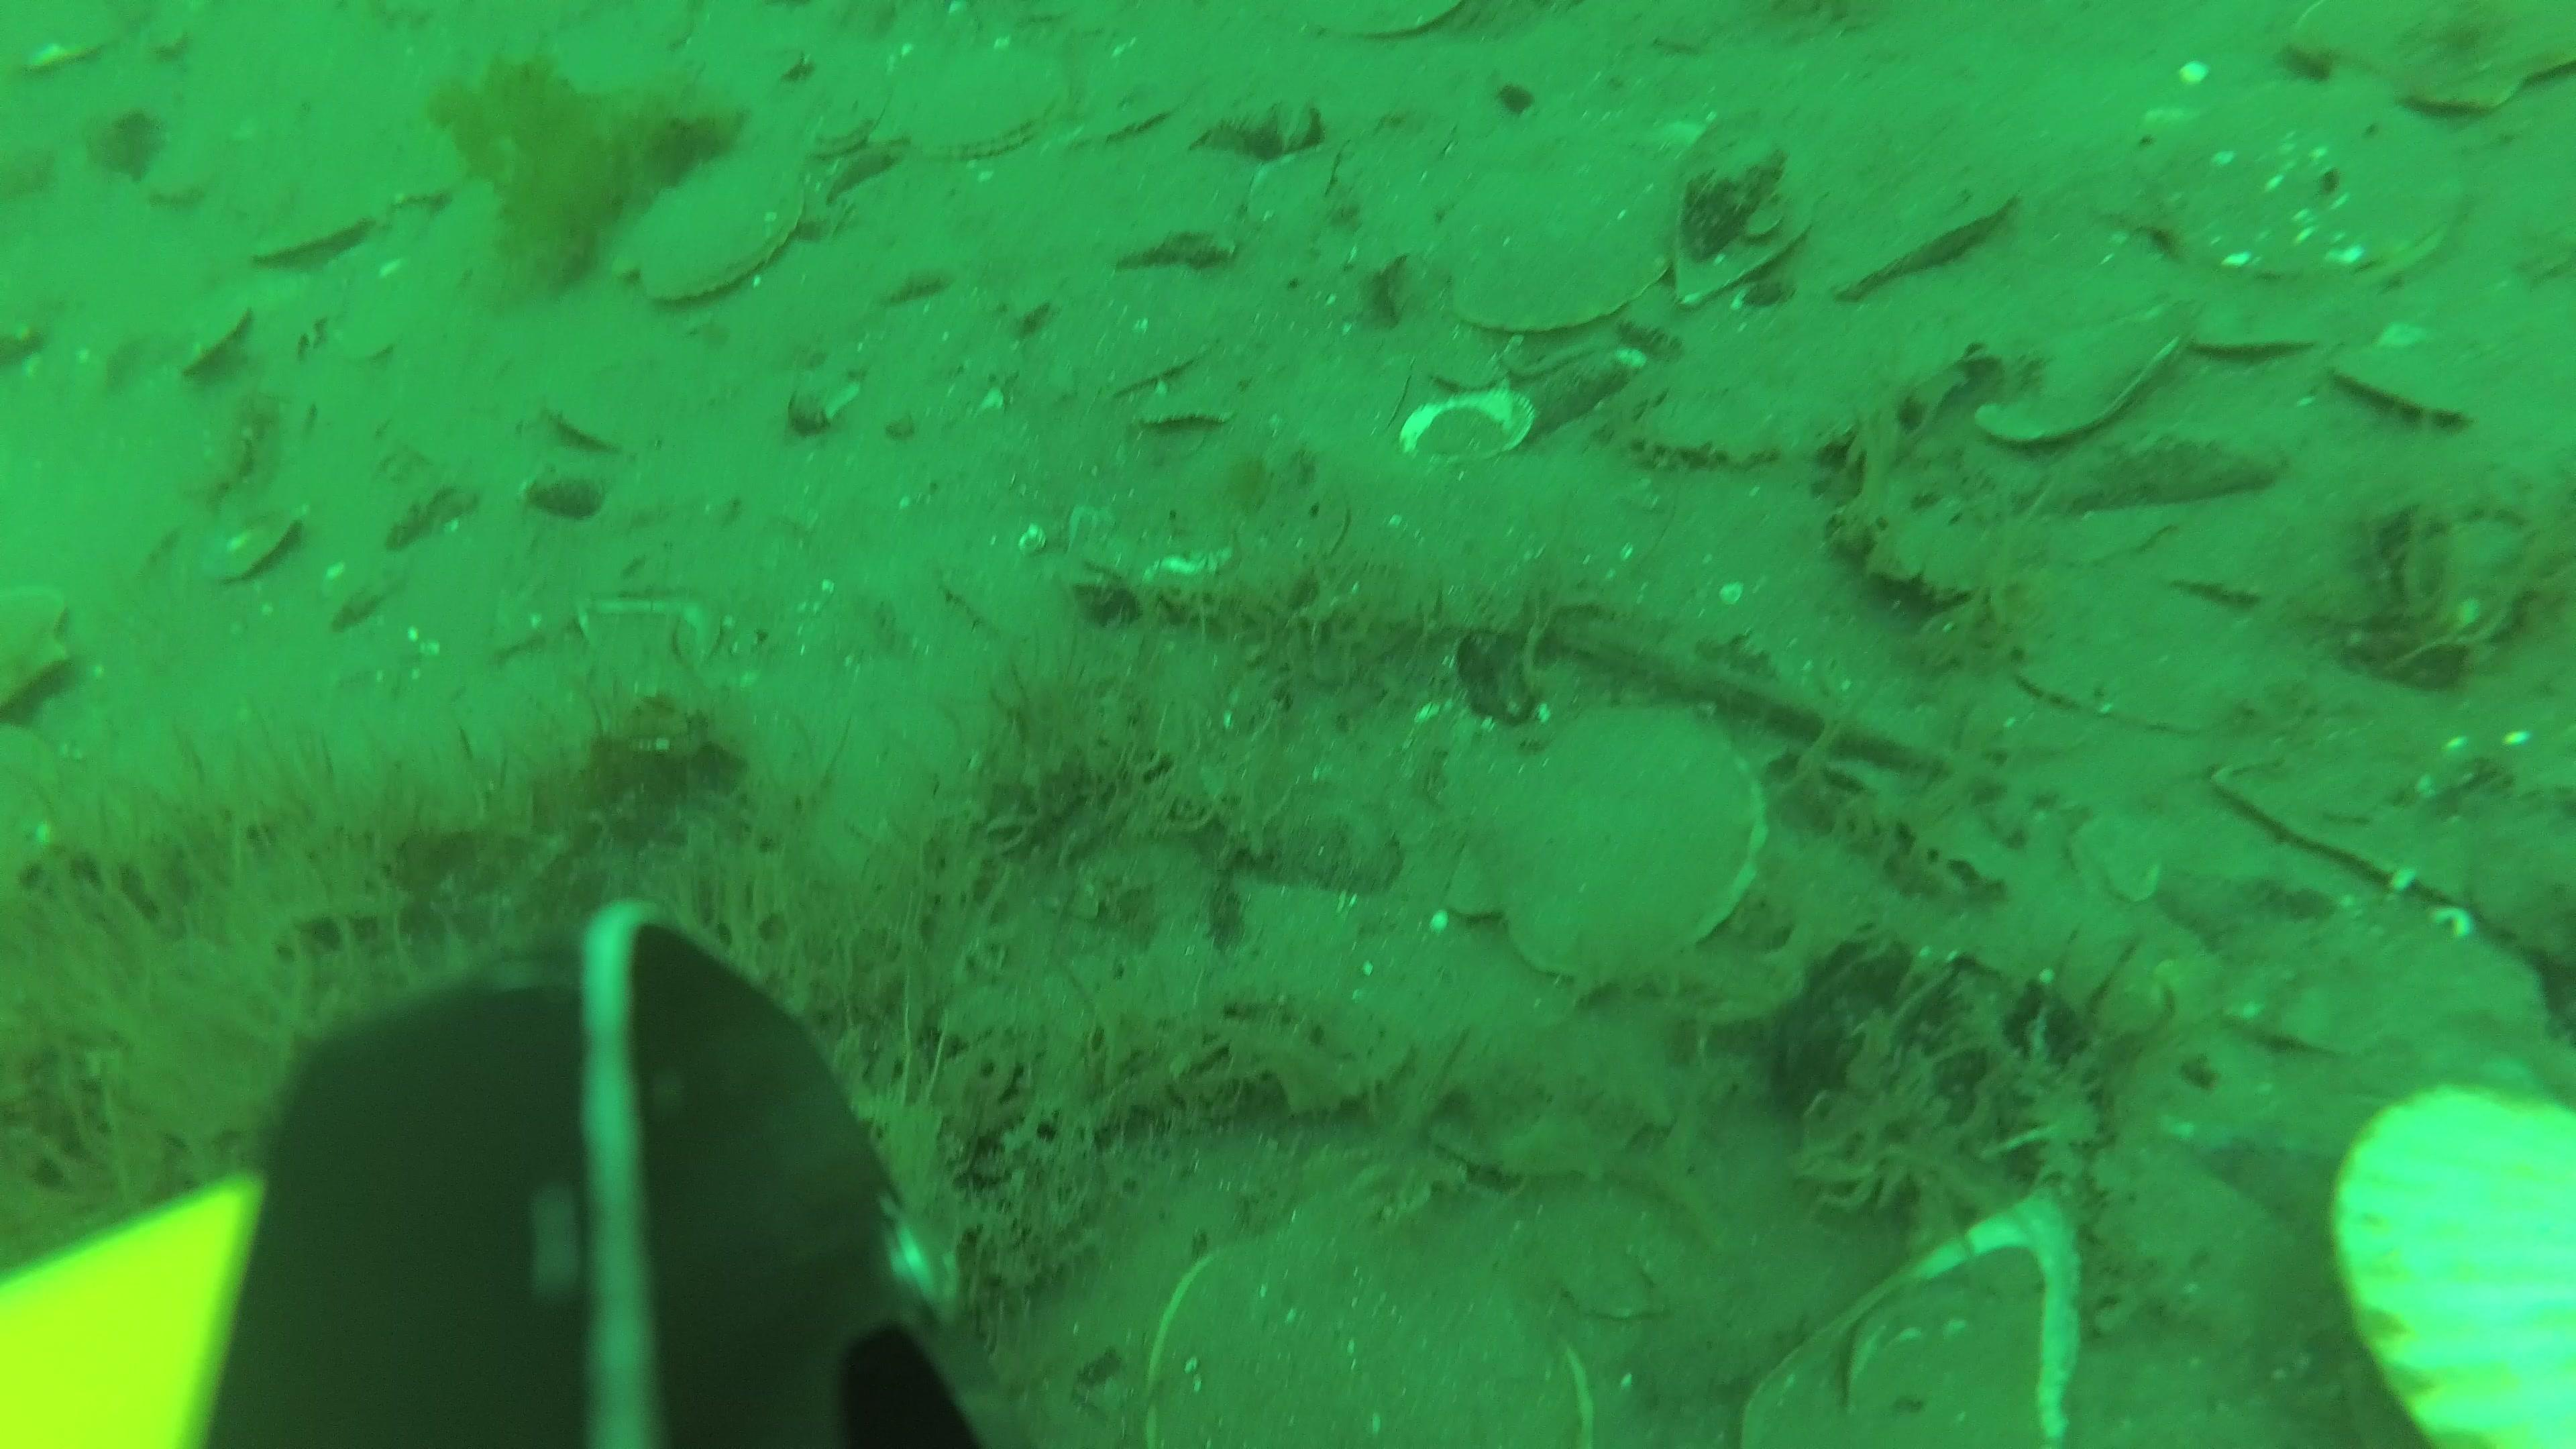scallop: (1141, 1221, 1601, 1449), (2335, 1072, 2576, 1449), (1476, 702, 1771, 993), (2157, 74, 2461, 299), (2022, 570, 2284, 732), (2273, 0, 2576, 134), (1980, 278, 2210, 433), (1433, 191, 1665, 329), (614, 166, 814, 311), (892, 57, 1086, 175), (1833, 173, 2015, 297), (2332, 334, 2479, 435), (258, 180, 386, 269), (7, 577, 83, 722)
